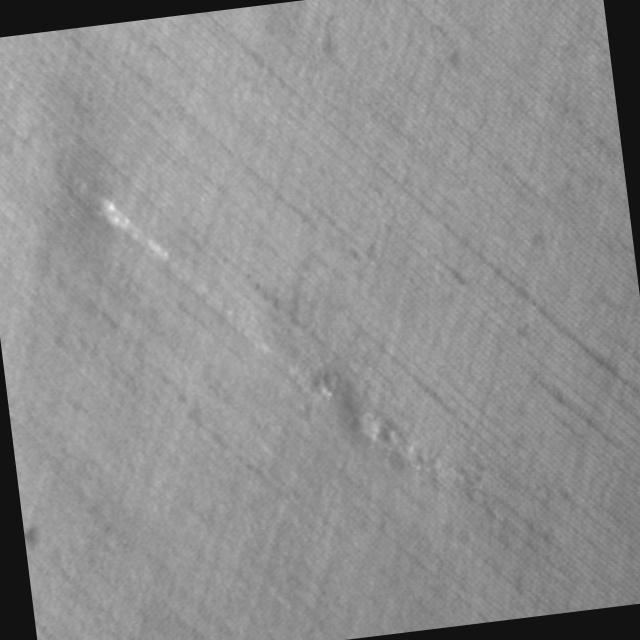thread error: (58, 110, 490, 552)
